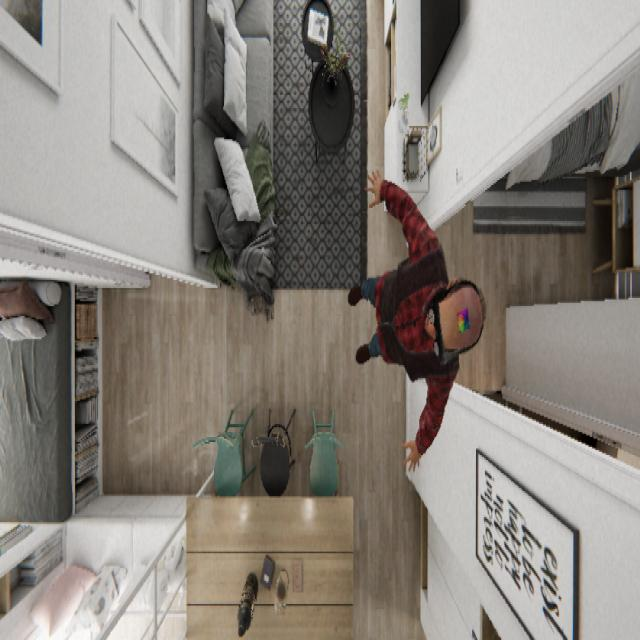Colored-Marker: (455, 303, 471, 335)
Human: (346, 165, 486, 475)
